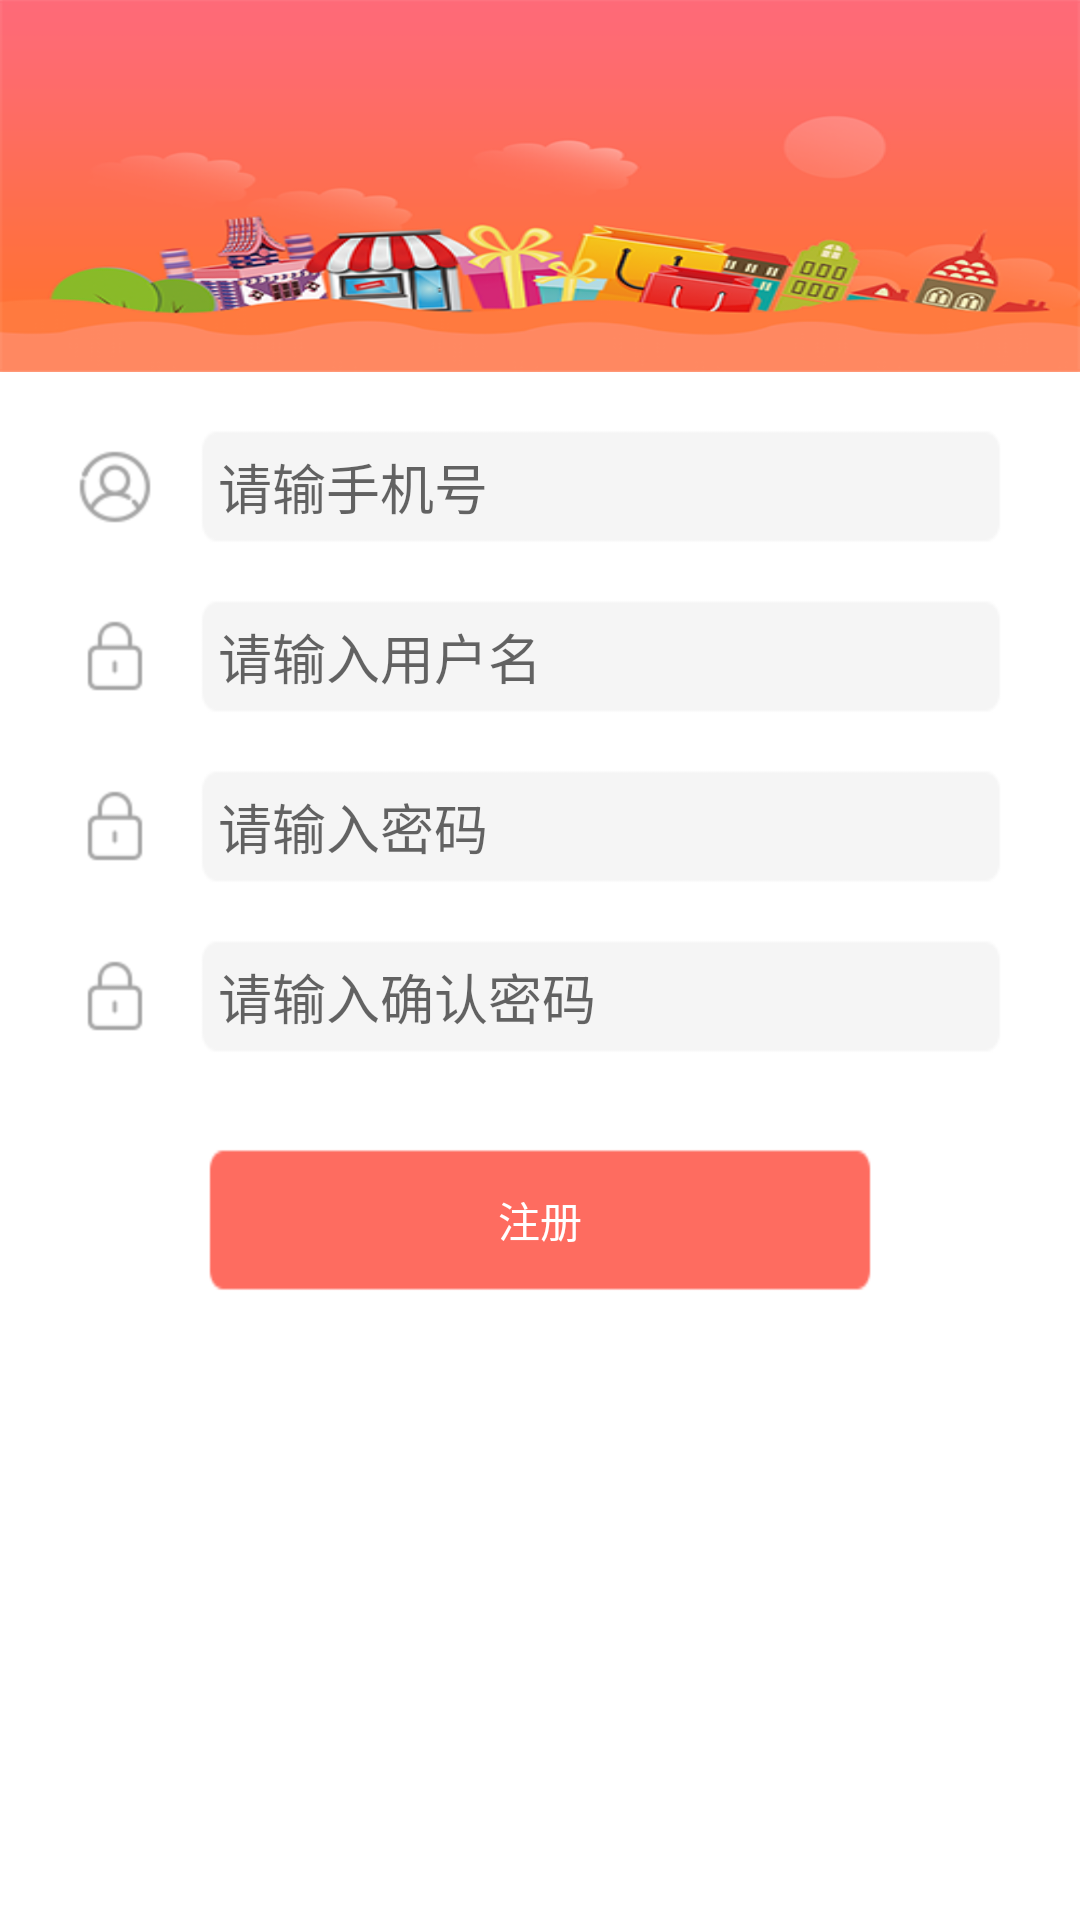

Screen size 1080px x 1920px. Icon name, then its center in pixels as (x,y):
login user name lefticon: (115,487)
login user pass lefticon: (115,656), (115,826), (115,996)
